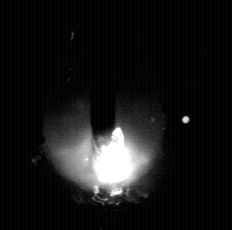arame: (91, 0, 116, 145)
poca: (43, 0, 164, 230)
